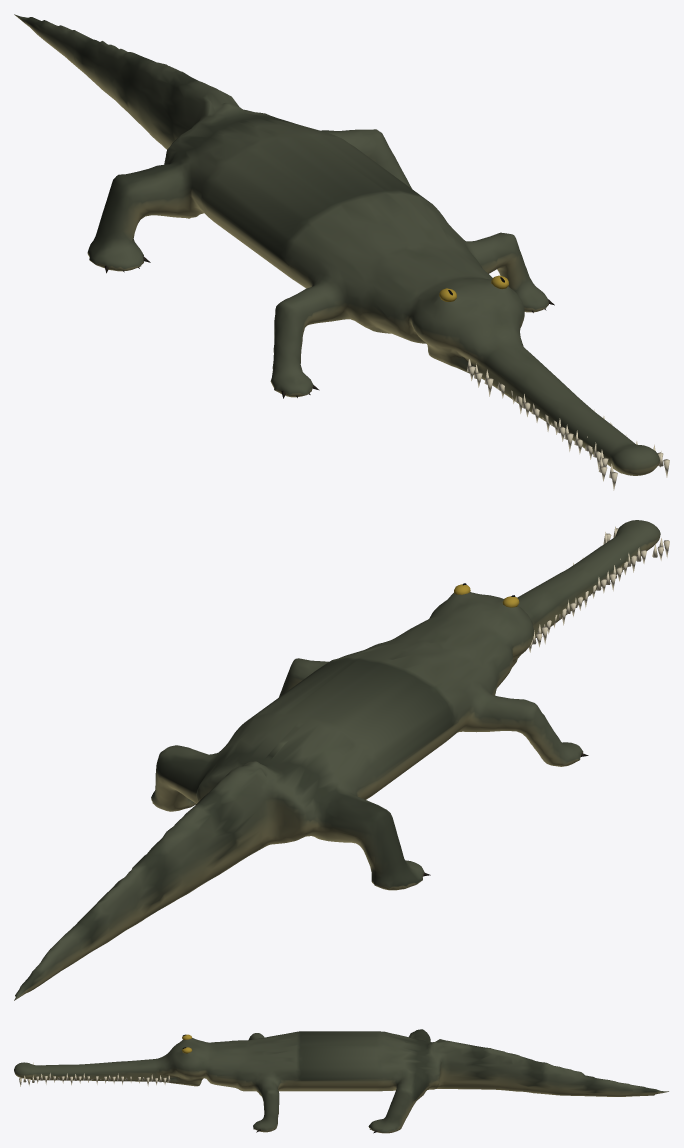
The model's file is RhamphosuchusCrassidens.fbx.
3 renders of one model, top to bottom at view 1: azimuth 30°, elevation 25°; view 2: azimuth 150°, elevation 25°; view 3: azimuth 270°, elevation 25°, orthographic. The views are drawn at different scales.
Parts seen in each view (by area): view 1: RhamphosuchusCrassidens; view 2: RhamphosuchusCrassidens; view 3: RhamphosuchusCrassidens.
Part boxes in pixels (x1,y1,x2,y2): RhamphosuchusCrassidens: (14,14,669,490); RhamphosuchusCrassidens: (14,520,669,1000); RhamphosuchusCrassidens: (14,1029,668,1133).
Size of the model in its own units: 0.8957 by 0.3314 by 3.27.
